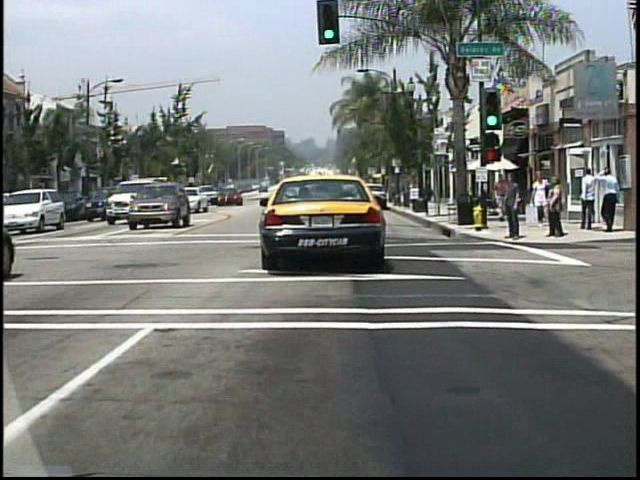person: (593, 167, 621, 234), (576, 165, 596, 231), (505, 173, 524, 241), (549, 176, 569, 238), (530, 172, 550, 229), (492, 173, 509, 224)
